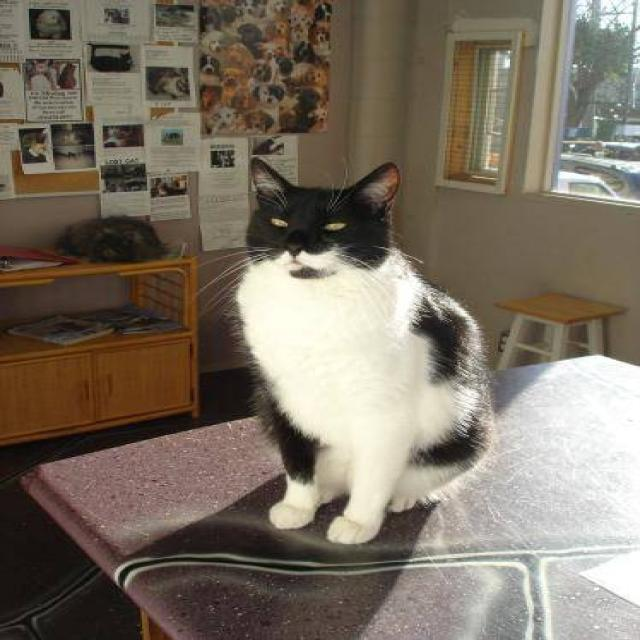cat: (193, 155, 494, 545)
